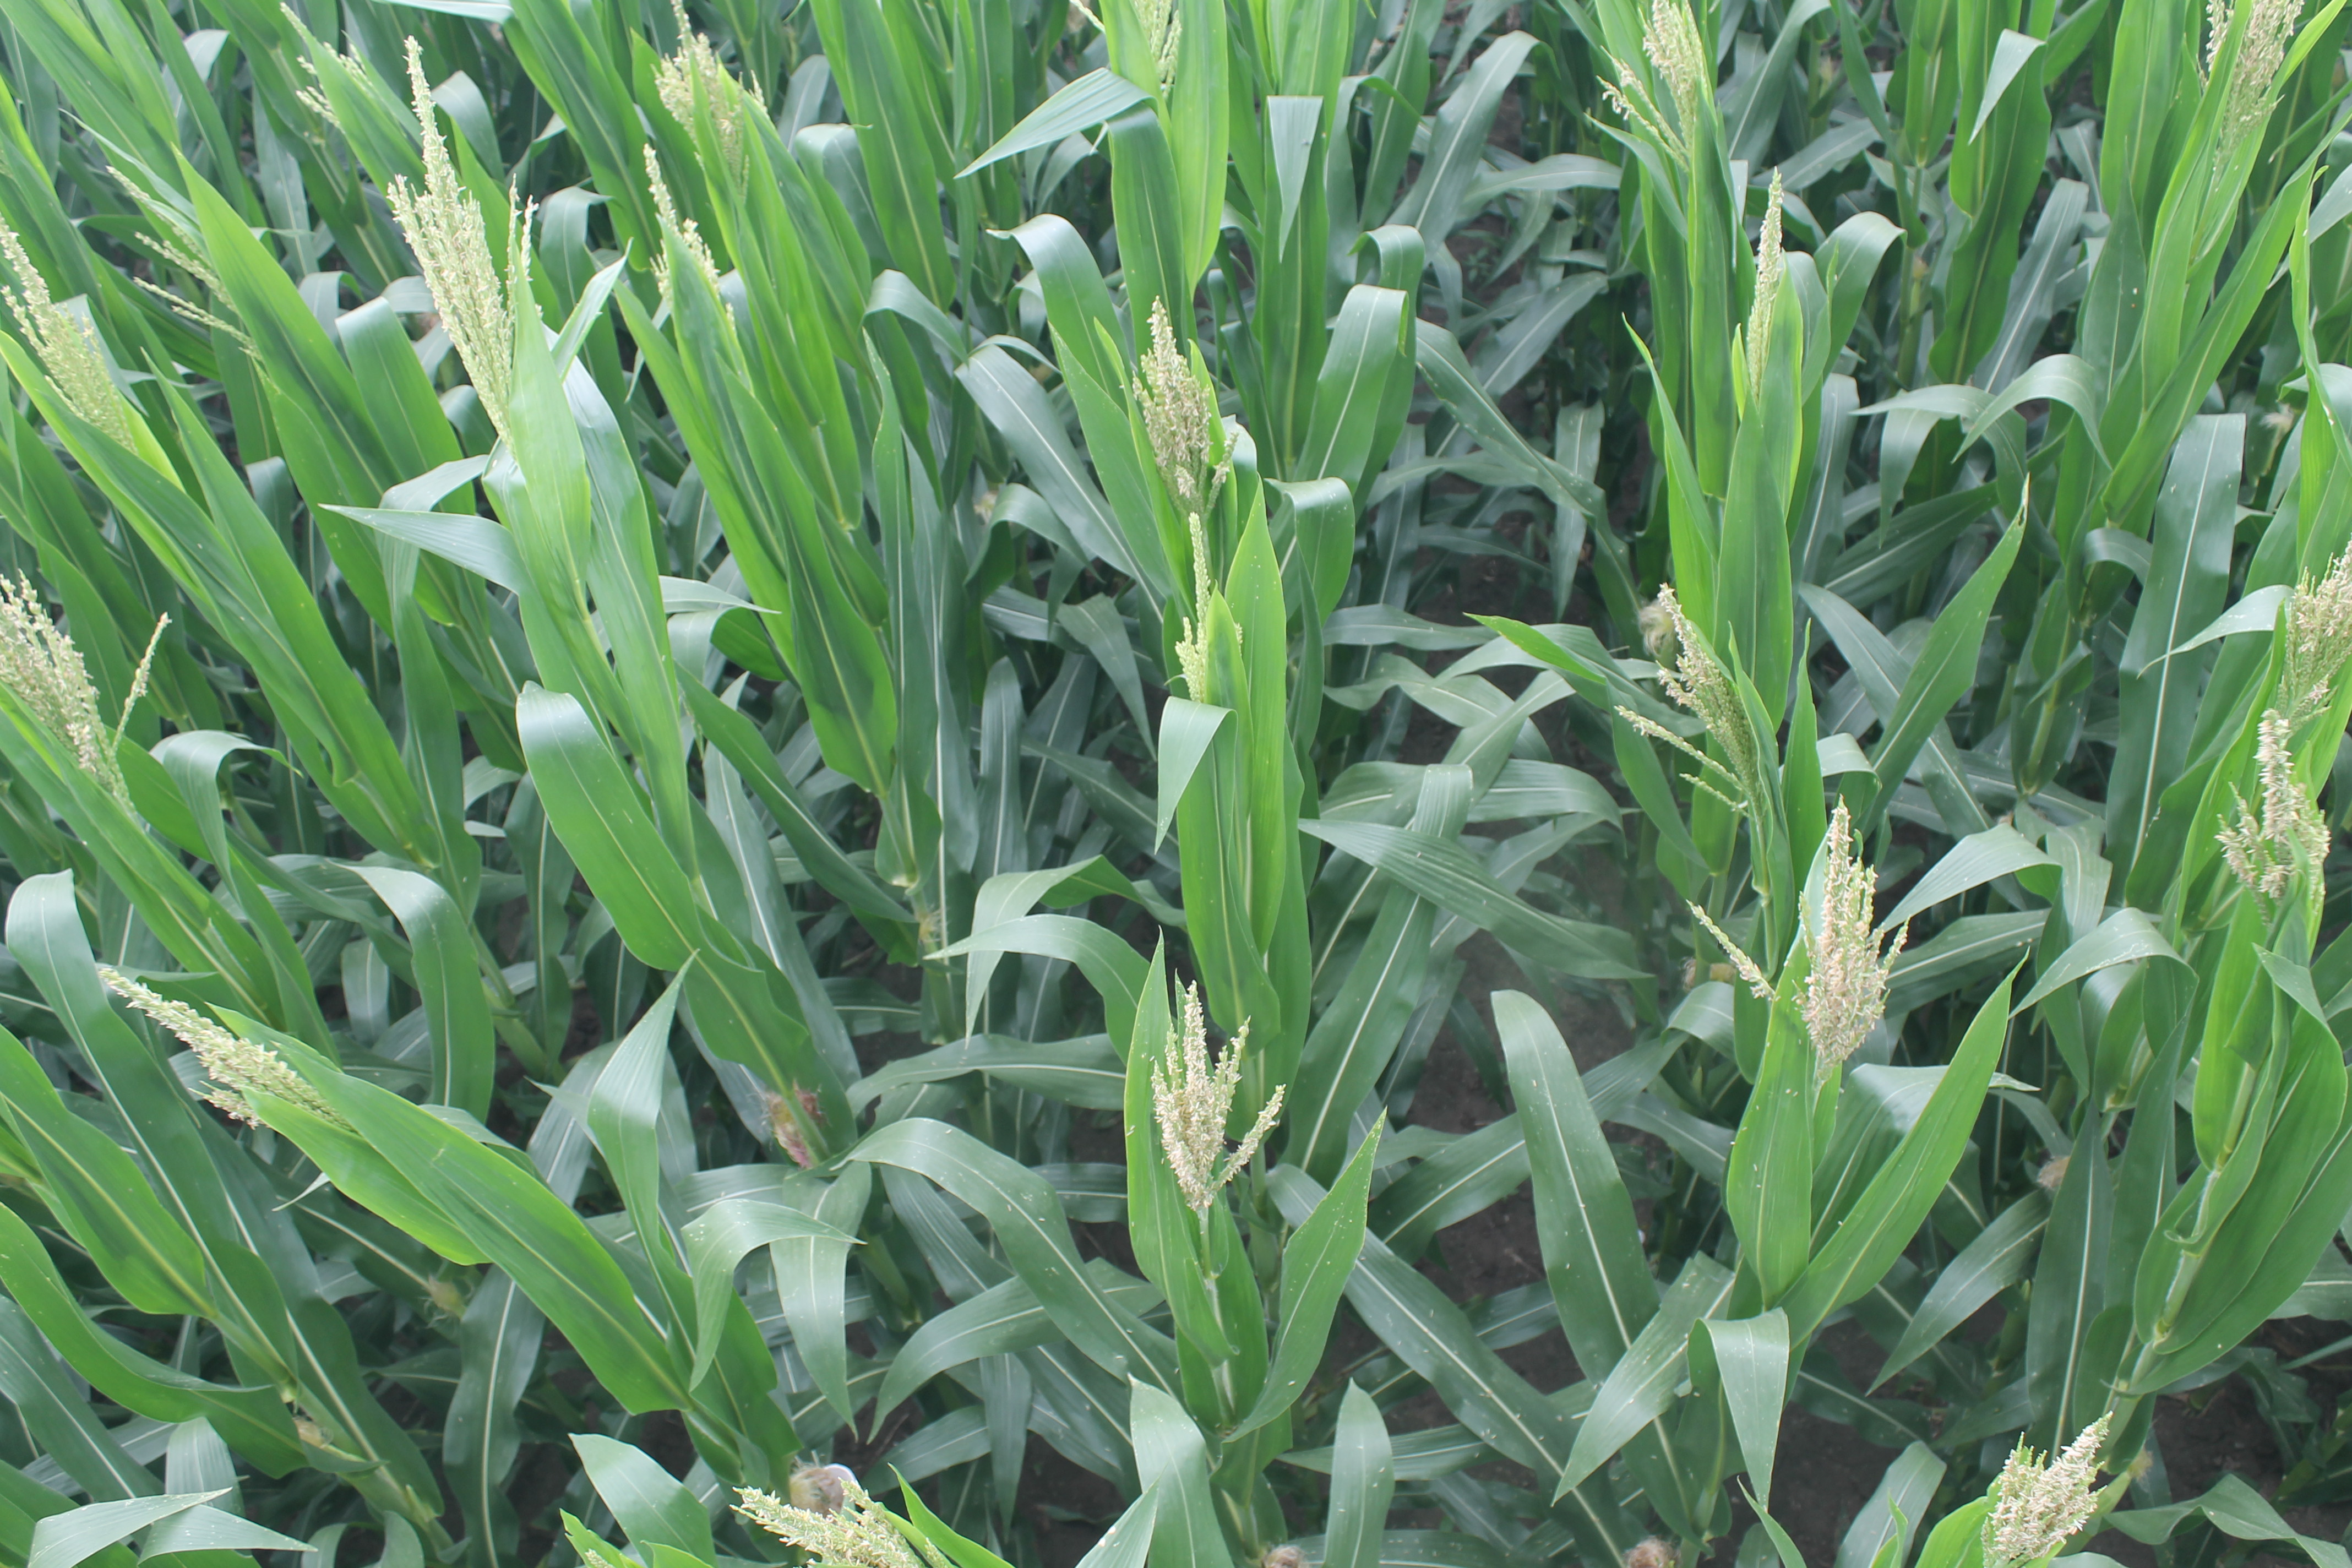Maize: (380, 33, 558, 429), (91, 959, 311, 1129), (1141, 980, 1290, 1227), (1629, 567, 1771, 815), (0, 220, 143, 462), (1127, 290, 1239, 509), (1974, 1414, 2131, 1568), (0, 558, 108, 777), (1802, 796, 1890, 1064), (2215, 716, 2336, 906), (1584, 0, 1717, 159), (724, 1472, 927, 1568), (633, 152, 745, 325), (1729, 157, 1806, 402), (1164, 507, 1249, 696), (649, 21, 749, 164), (2268, 542, 2352, 710), (2201, 0, 2292, 133)
